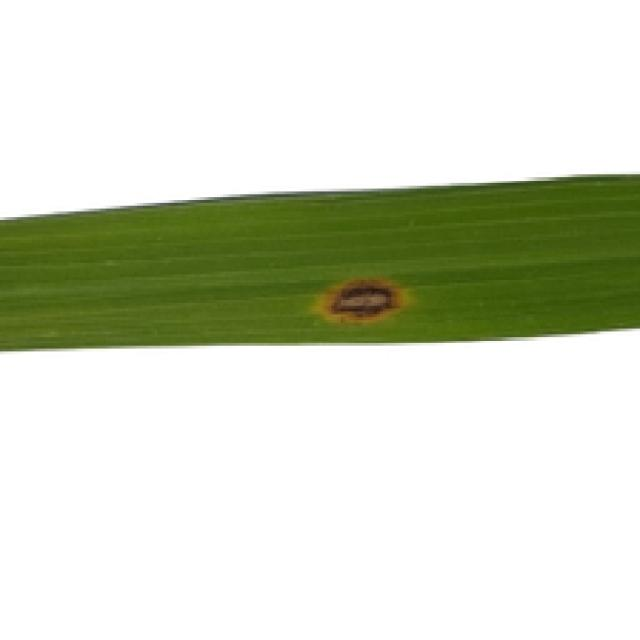Rice___Rice_Blast: (1, 177, 637, 349)
